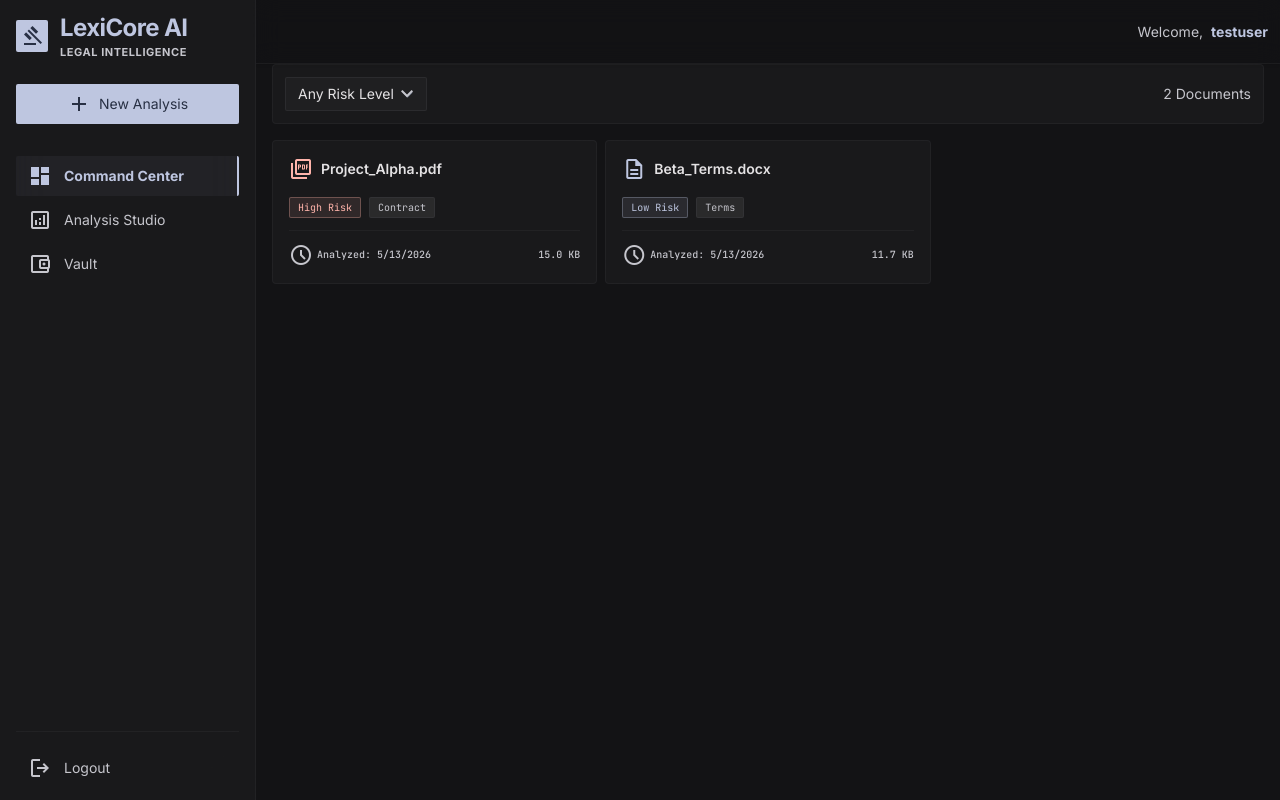
Test: Vault Integration Tests › renders documents and filters them properly
The image size is (1280, 800).
Expected: the heading "Project_Alpha.pdf" is shown, [321, 159, 450, 179]
Expected: the heading "Beta_Terms.docx" is shown, [654, 159, 779, 179]
Test Risk Level Filtering
Select "Low Risk" in the dropdown at (356, 94), box [285, 77, 427, 111]
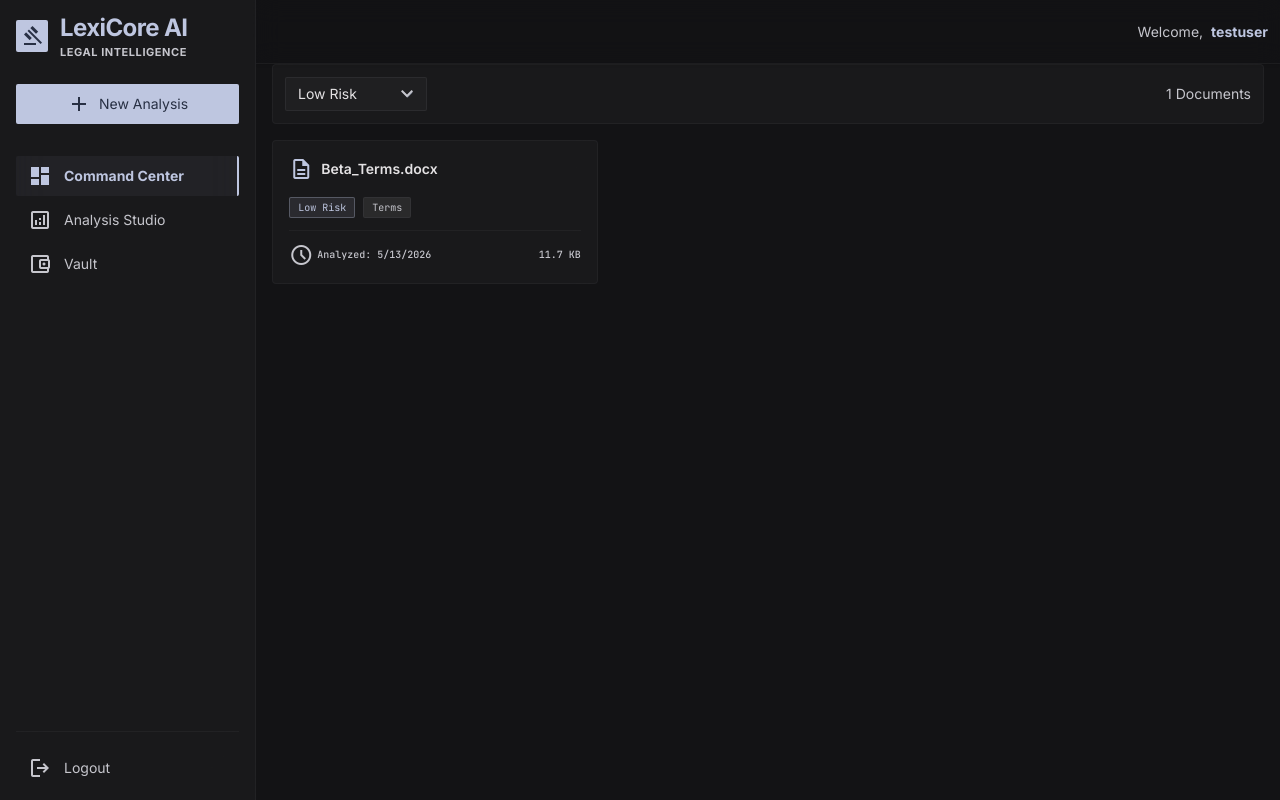
Expected: the heading "Beta_Terms.docx" is shown, [321, 159, 445, 179]
Expected: the heading "Project_Alpha.pdf" is gone
